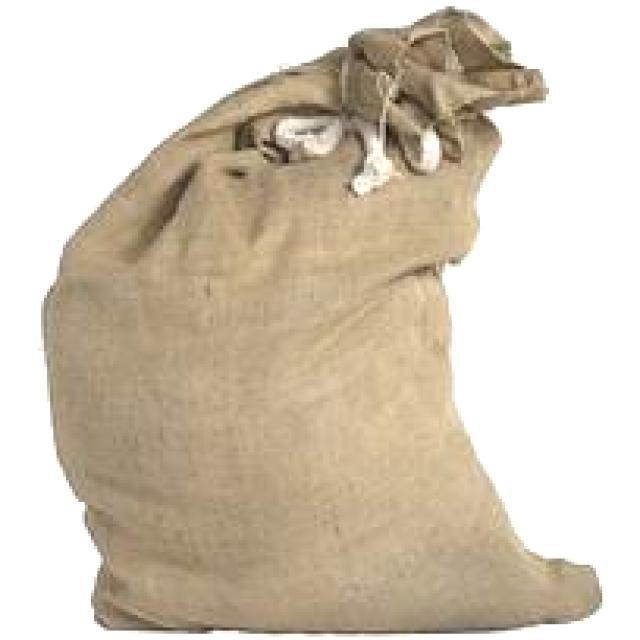gunny_bag: (36, 3, 610, 634)
